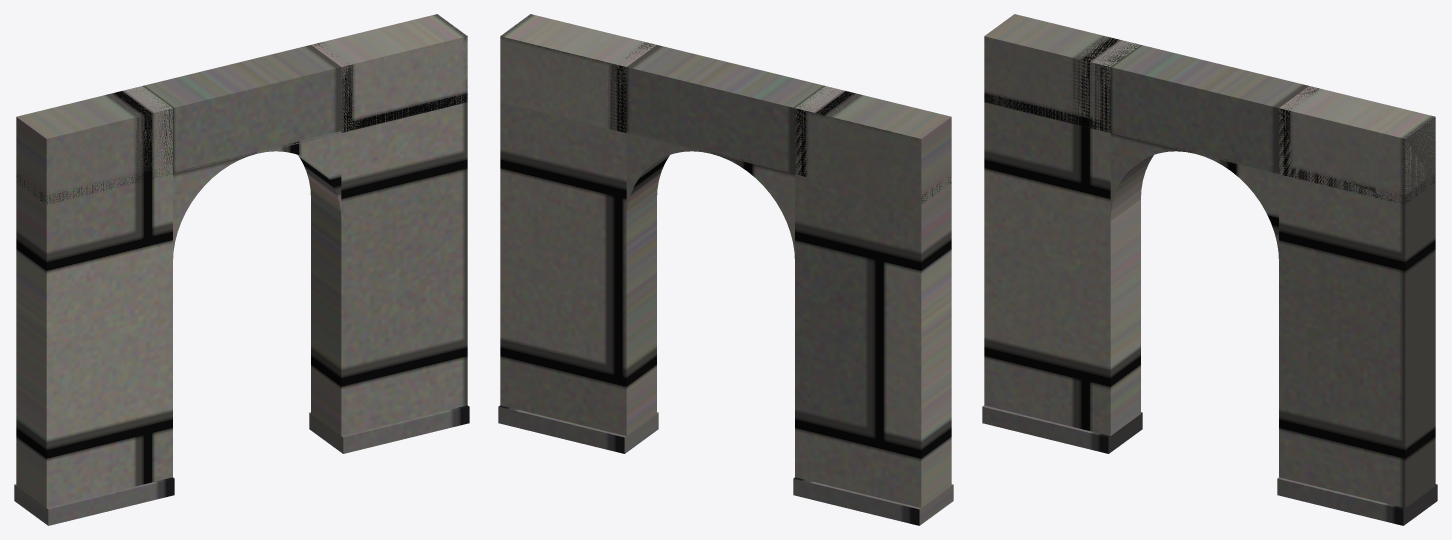
File: CastleKeepDoorWall.glb
3 renders of one model, left to right at view 1: azimuth 30°, elevation 25°; view 2: azimuth 150°, elevation 25°; view 3: azimuth 330°, elevation 25°, orthographic.
Parts seen in each view (by area): view 1: CastleKeepDoorWall; view 2: CastleKeepDoorWall; view 3: CastleKeepDoorWall.
Boxes of the visible parts, x1,y1,x2,y2 form: CastleKeepDoorWall: [14, 14, 469, 525]; CastleKeepDoorWall: [498, 14, 953, 525]; CastleKeepDoorWall: [982, 14, 1437, 525].
Bounding box in the file's own units: 4 × 3.5 × 0.56.
2 materials, 2 textured.
